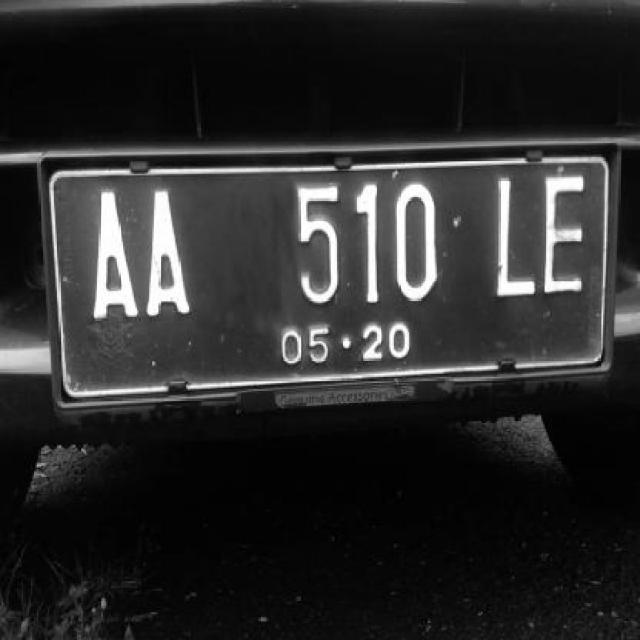0: (393, 181, 446, 306)
1: (348, 180, 396, 312)
5: (294, 181, 346, 313)
A: (79, 190, 147, 318), (141, 188, 198, 324)
E: (546, 167, 586, 301)
L: (486, 174, 540, 313)
